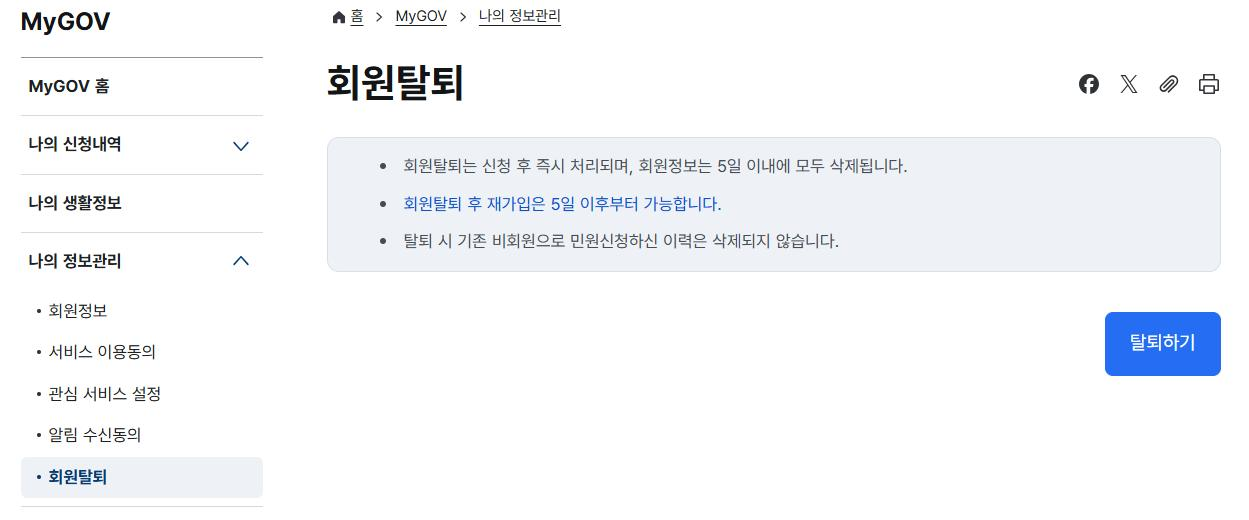button: (24, 57, 261, 111), (25, 184, 257, 230), (1105, 311, 1223, 375), (32, 461, 168, 488), (52, 334, 169, 361), (47, 385, 176, 405), (52, 424, 148, 443), (49, 298, 118, 322), (1195, 69, 1224, 97), (1075, 70, 1105, 97), (1149, 76, 1182, 96), (1116, 75, 1143, 99)
checkbox: (29, 131, 258, 161), (24, 250, 256, 274)
